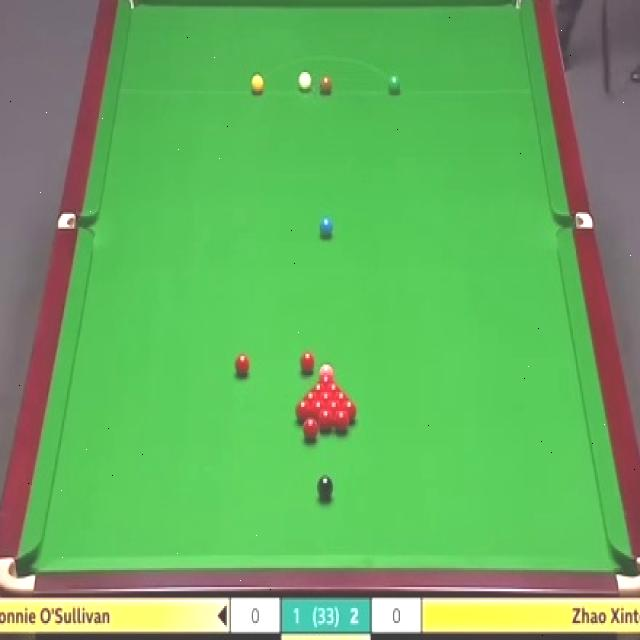black-ball: (317, 475, 334, 501)
blue-ball: (318, 216, 334, 240)
brown-ball: (320, 75, 333, 96)
green-ball: (388, 74, 400, 94)
pink-ball: (319, 362, 335, 376)
red-ball: (299, 350, 315, 378), (317, 409, 333, 433), (234, 353, 249, 378), (303, 417, 318, 442), (334, 410, 349, 434), (342, 400, 357, 422), (296, 402, 312, 422), (312, 401, 326, 419), (302, 390, 321, 402), (309, 382, 327, 392), (326, 400, 341, 411), (326, 383, 342, 393), (333, 392, 350, 401), (318, 376, 335, 384), (320, 392, 334, 401)
white-ball: (296, 69, 313, 94)
yellow-ball: (251, 72, 263, 96)
